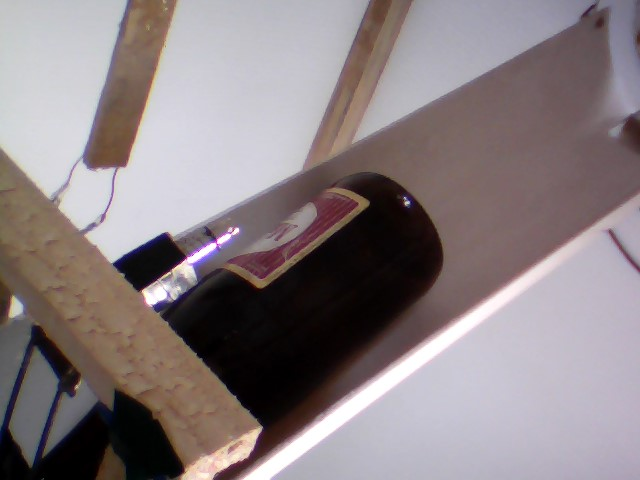vidrio: (172, 158, 453, 431)
